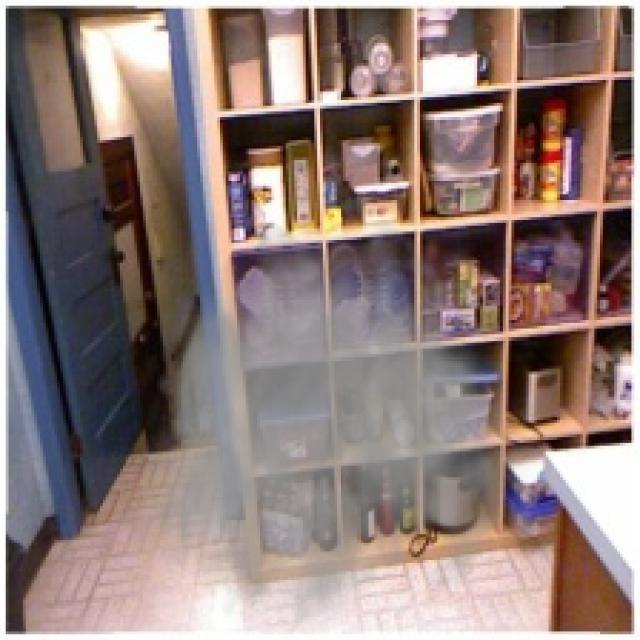Smoke: (143, 217, 543, 634)
